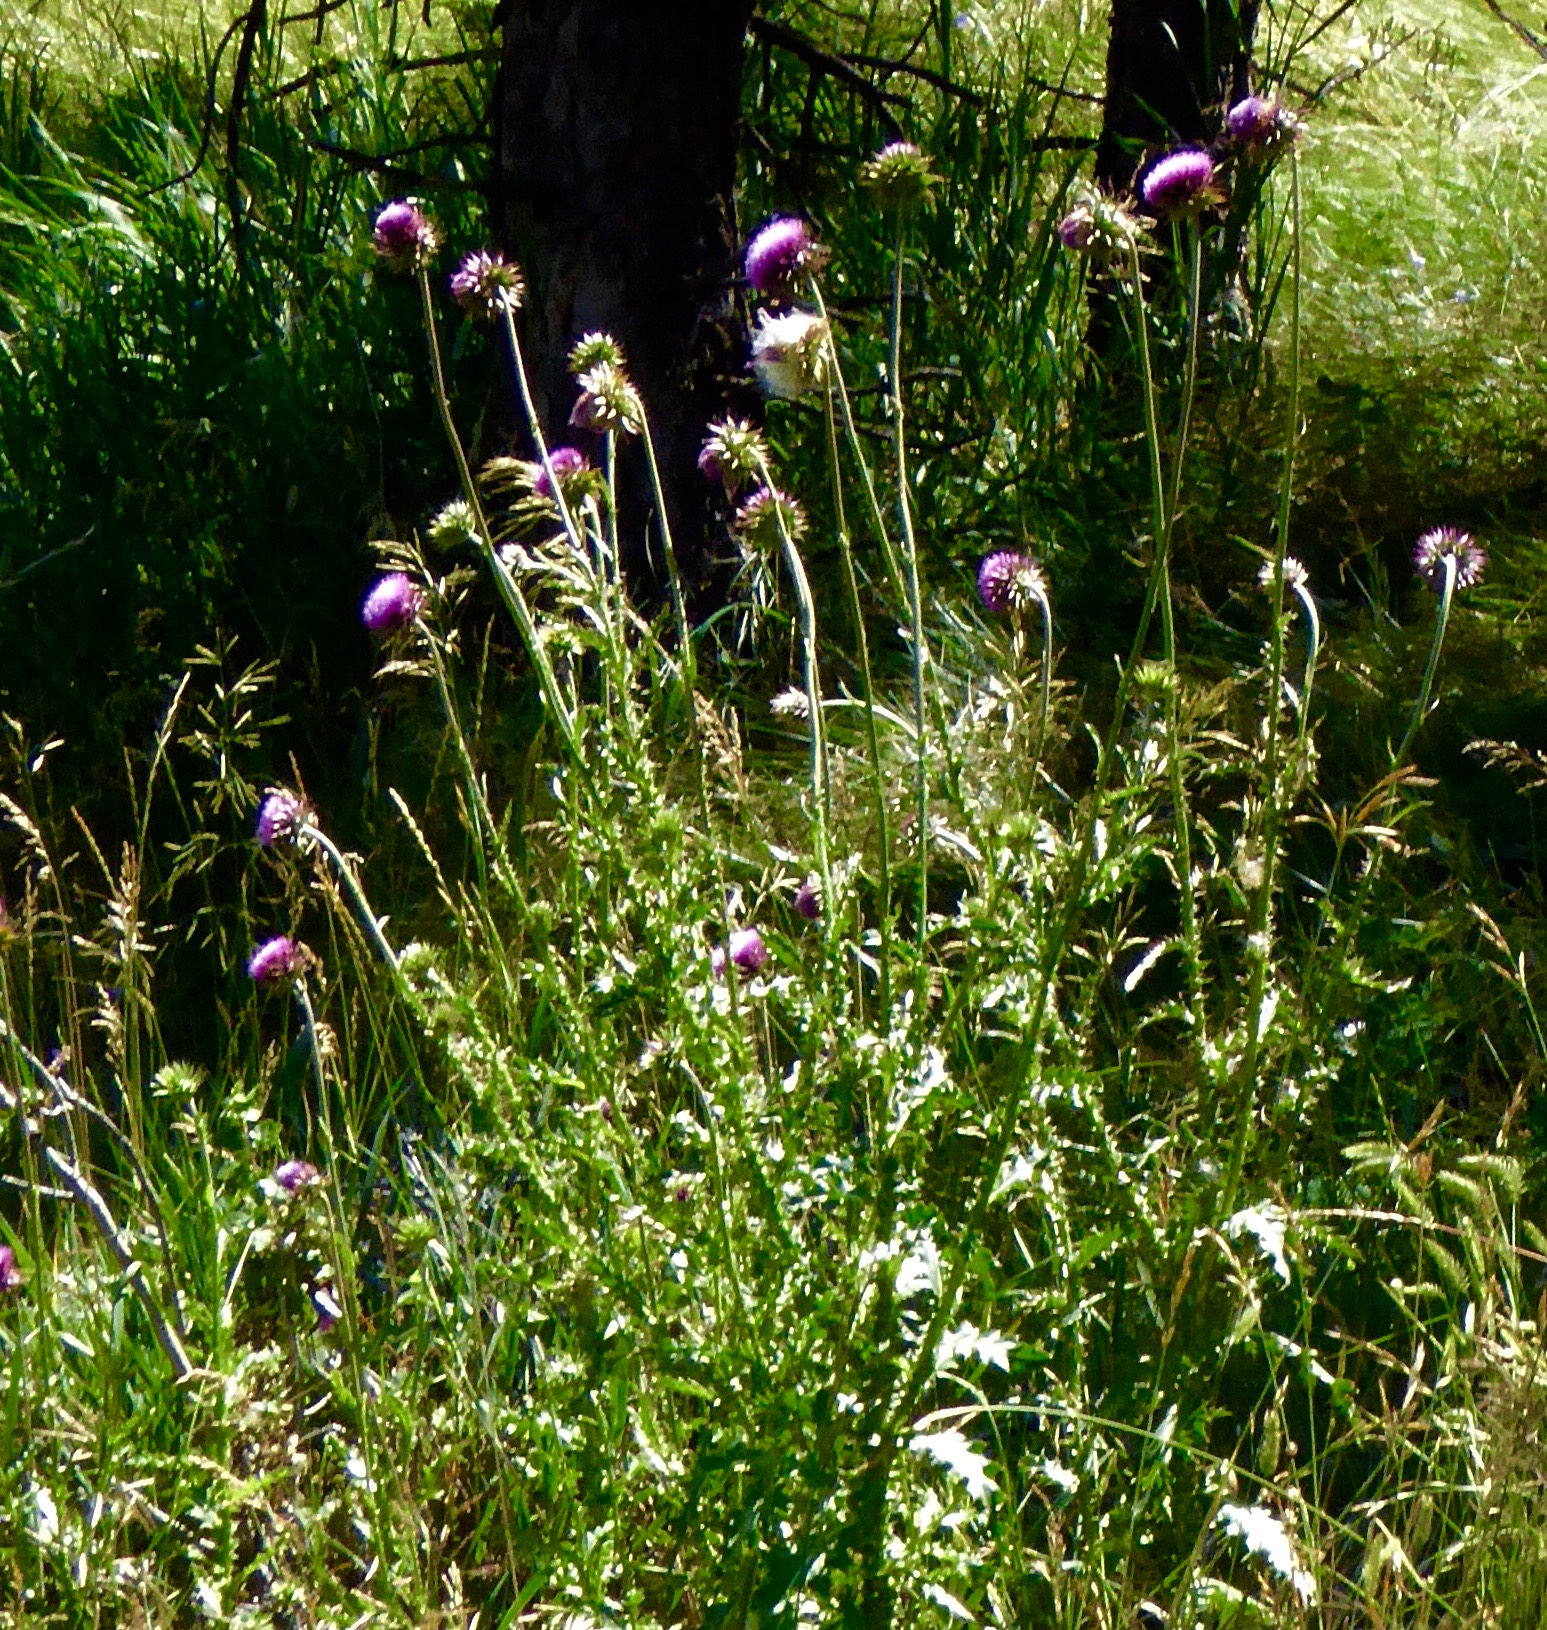thistle: (739, 206, 852, 311), (721, 481, 824, 574), (1128, 141, 1227, 237), (1407, 521, 1508, 602), (337, 569, 438, 644), (974, 538, 1058, 627), (682, 398, 773, 480), (350, 204, 449, 273), (1215, 97, 1325, 156), (247, 787, 329, 859), (227, 932, 305, 1005), (791, 852, 867, 926), (699, 915, 785, 979), (534, 446, 599, 523)
